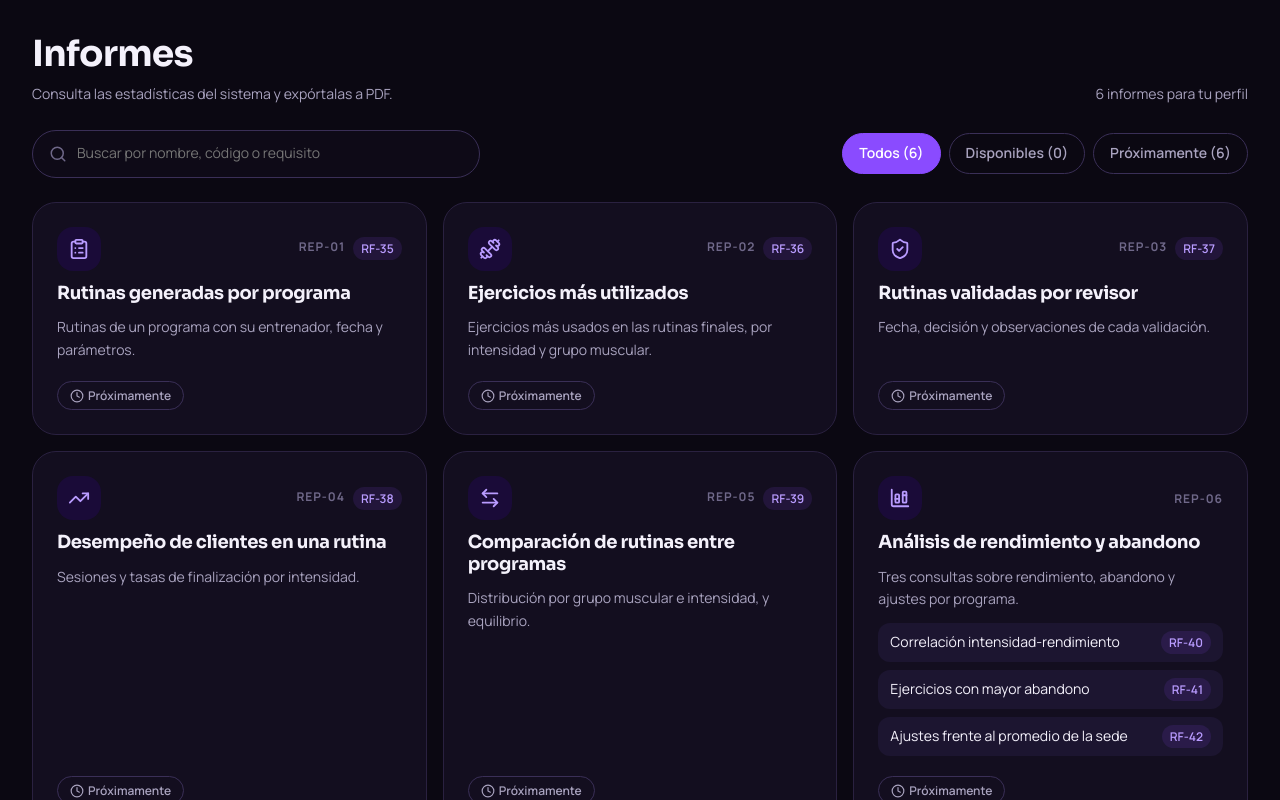
Test case: ReportsIndexPage › filters the cards with the search box and updates the tab counters
Type "validadas" into the search field named "Buscar informes".
click(269, 154); type("validadas")  # box left=75, top=141, right=463, bottom=166
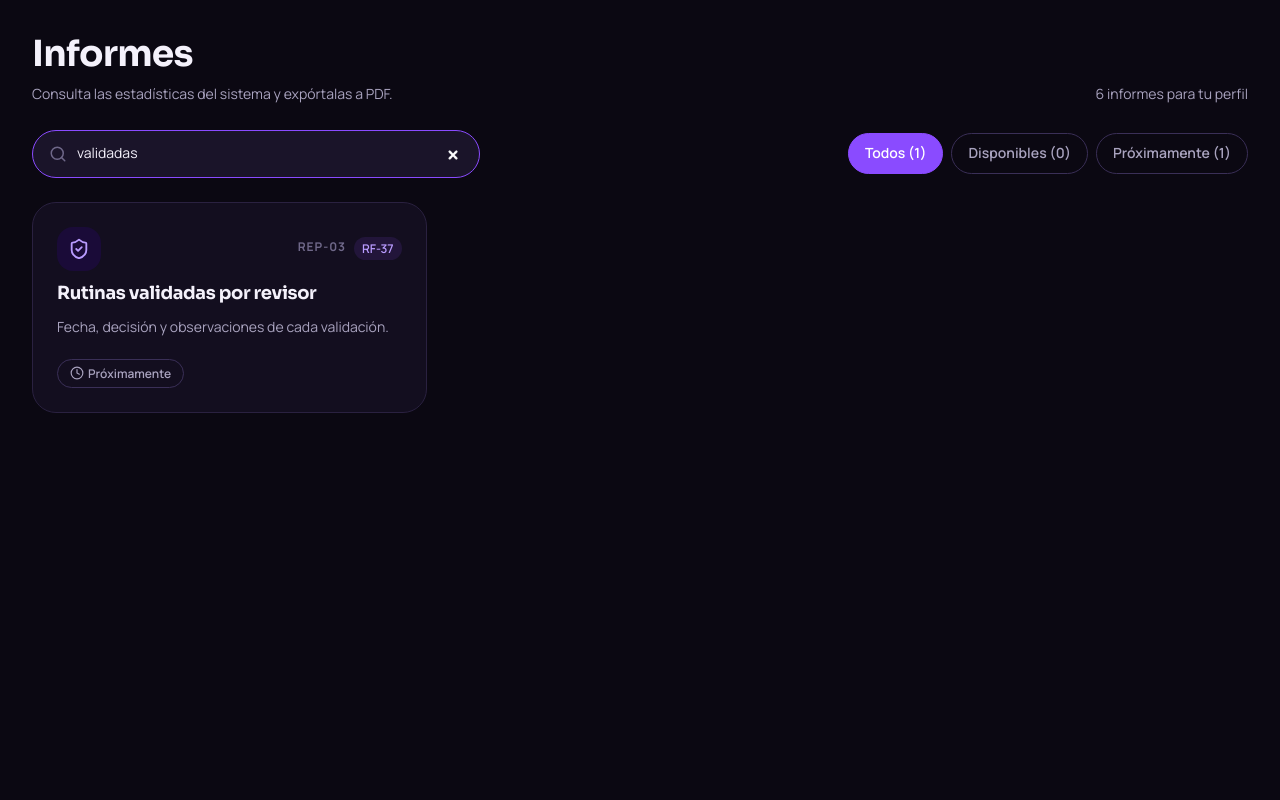
Now the button "Todos (1)" is shown, box left=848, top=133, right=943, bottom=174
